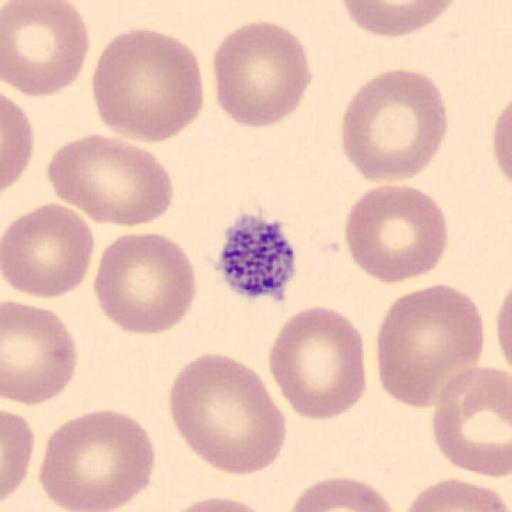Platelet: (214, 212, 299, 303)
RBC: (166, 350, 288, 479), (376, 282, 486, 409), (90, 28, 206, 143), (341, 66, 450, 185), (37, 407, 157, 512), (46, 132, 176, 228), (266, 306, 368, 422), (210, 19, 313, 129), (92, 230, 198, 336), (343, 182, 449, 285), (431, 364, 512, 478), (2, 202, 96, 300), (1, 0, 91, 99), (2, 299, 78, 406), (340, 0, 459, 38), (287, 475, 397, 512), (401, 476, 511, 512), (2, 408, 36, 506), (2, 92, 34, 194), (493, 283, 512, 396), (160, 494, 279, 512), (490, 98, 512, 191), (495, 291, 512, 371)
